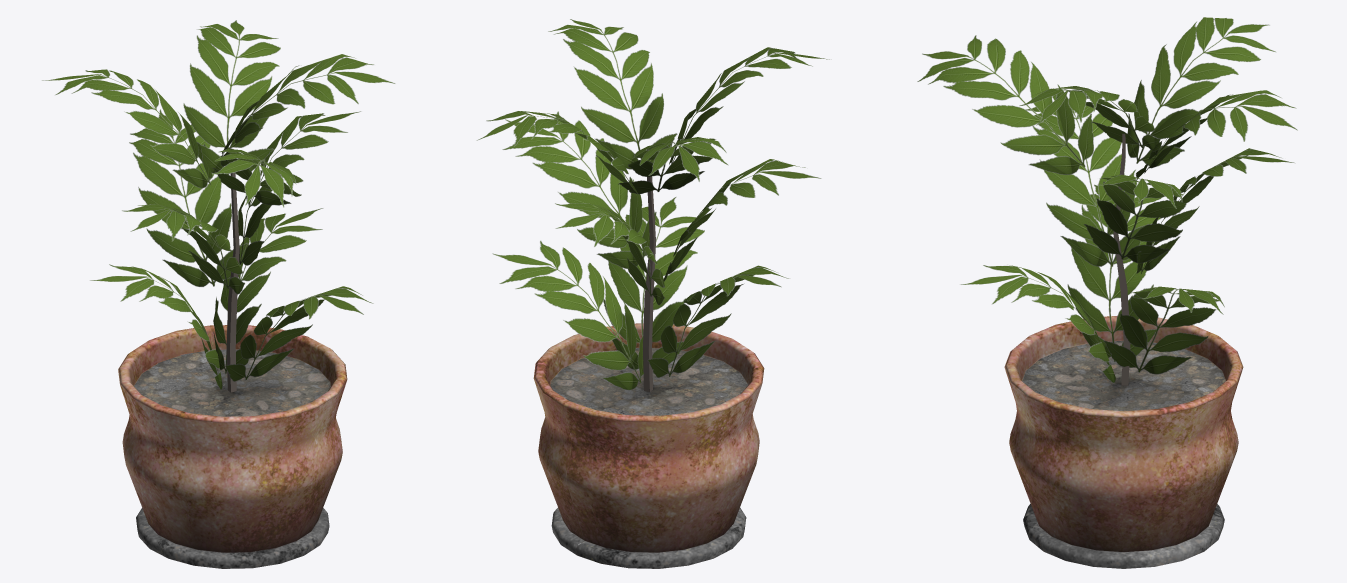
Rendered from free_pbr_plant_in_vase.glb.
The picture shows the model from 3 angles, left to right: view 1: azimuth 30°, elevation 25°; view 2: azimuth 150°, elevation 25°; view 3: azimuth 270°, elevation 25°; orthographic projection. The views are drawn at different scales.
Parts seen in each view (by area): view 1: XOIAL_PlantInVase; view 2: XOIAL_PlantInVase; view 3: XOIAL_PlantInVase.
Part boxes in pixels (<box>): XOIAL_PlantInVase: <box>42,20,395,568</box>; XOIAL_PlantInVase: <box>476,19,831,568</box>; XOIAL_PlantInVase: <box>917,17,1297,568</box>.
Bounding box in the file's own units: 0.0444 × 0.0608 × 0.0512.
Materials: 1 (1 with a texture image).
